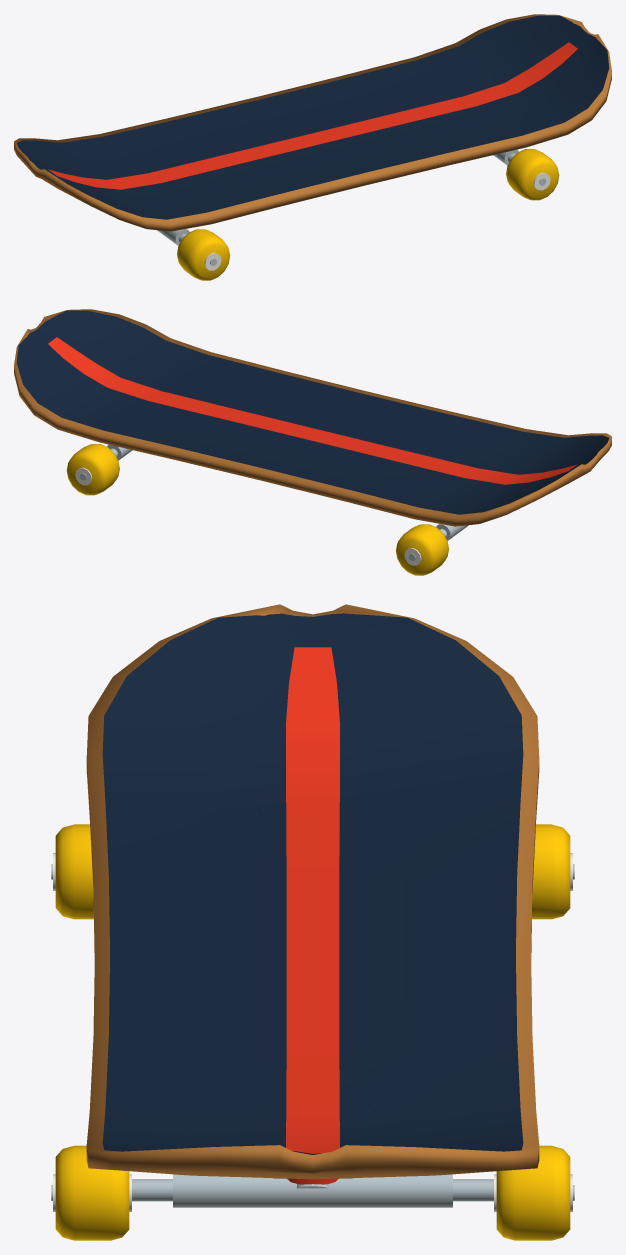
File: 25_Skateboard.glb
The picture shows the model from 3 angles, top to bottom: view 1: azimuth 30°, elevation 25°; view 2: azimuth 150°, elevation 25°; view 3: azimuth 270°, elevation 25°; orthographic projection. The views are drawn at different scales.
Visible parts, largest first — view 1: 25_Skateboard_EXPORT; view 2: 25_Skateboard_EXPORT; view 3: 25_Skateboard_EXPORT.
Part boxes in pixels (bbox=[...]): 25_Skateboard_EXPORT: bbox=[14, 14, 611, 280]; 25_Skateboard_EXPORT: bbox=[14, 309, 611, 575]; 25_Skateboard_EXPORT: bbox=[51, 604, 574, 1240].
Size of the model in its own units: 1.29 by 0.224 by 0.5285.
